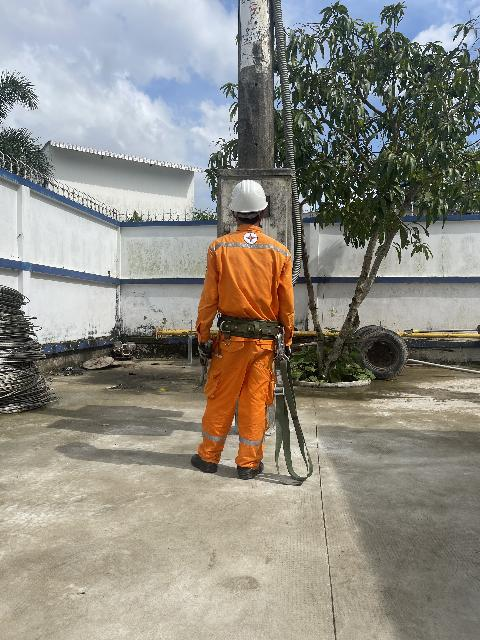gloves: (193, 333, 213, 371), (283, 340, 298, 367)
harness: (210, 300, 289, 344)
helmet: (223, 176, 273, 215)
shoes: (230, 445, 270, 481), (184, 448, 221, 476)
